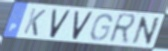G: (89, 13, 113, 43)
K: (22, 7, 48, 37)
N: (130, 16, 162, 47)
R: (107, 12, 138, 46)
V: (48, 8, 73, 40), (70, 10, 95, 41)
